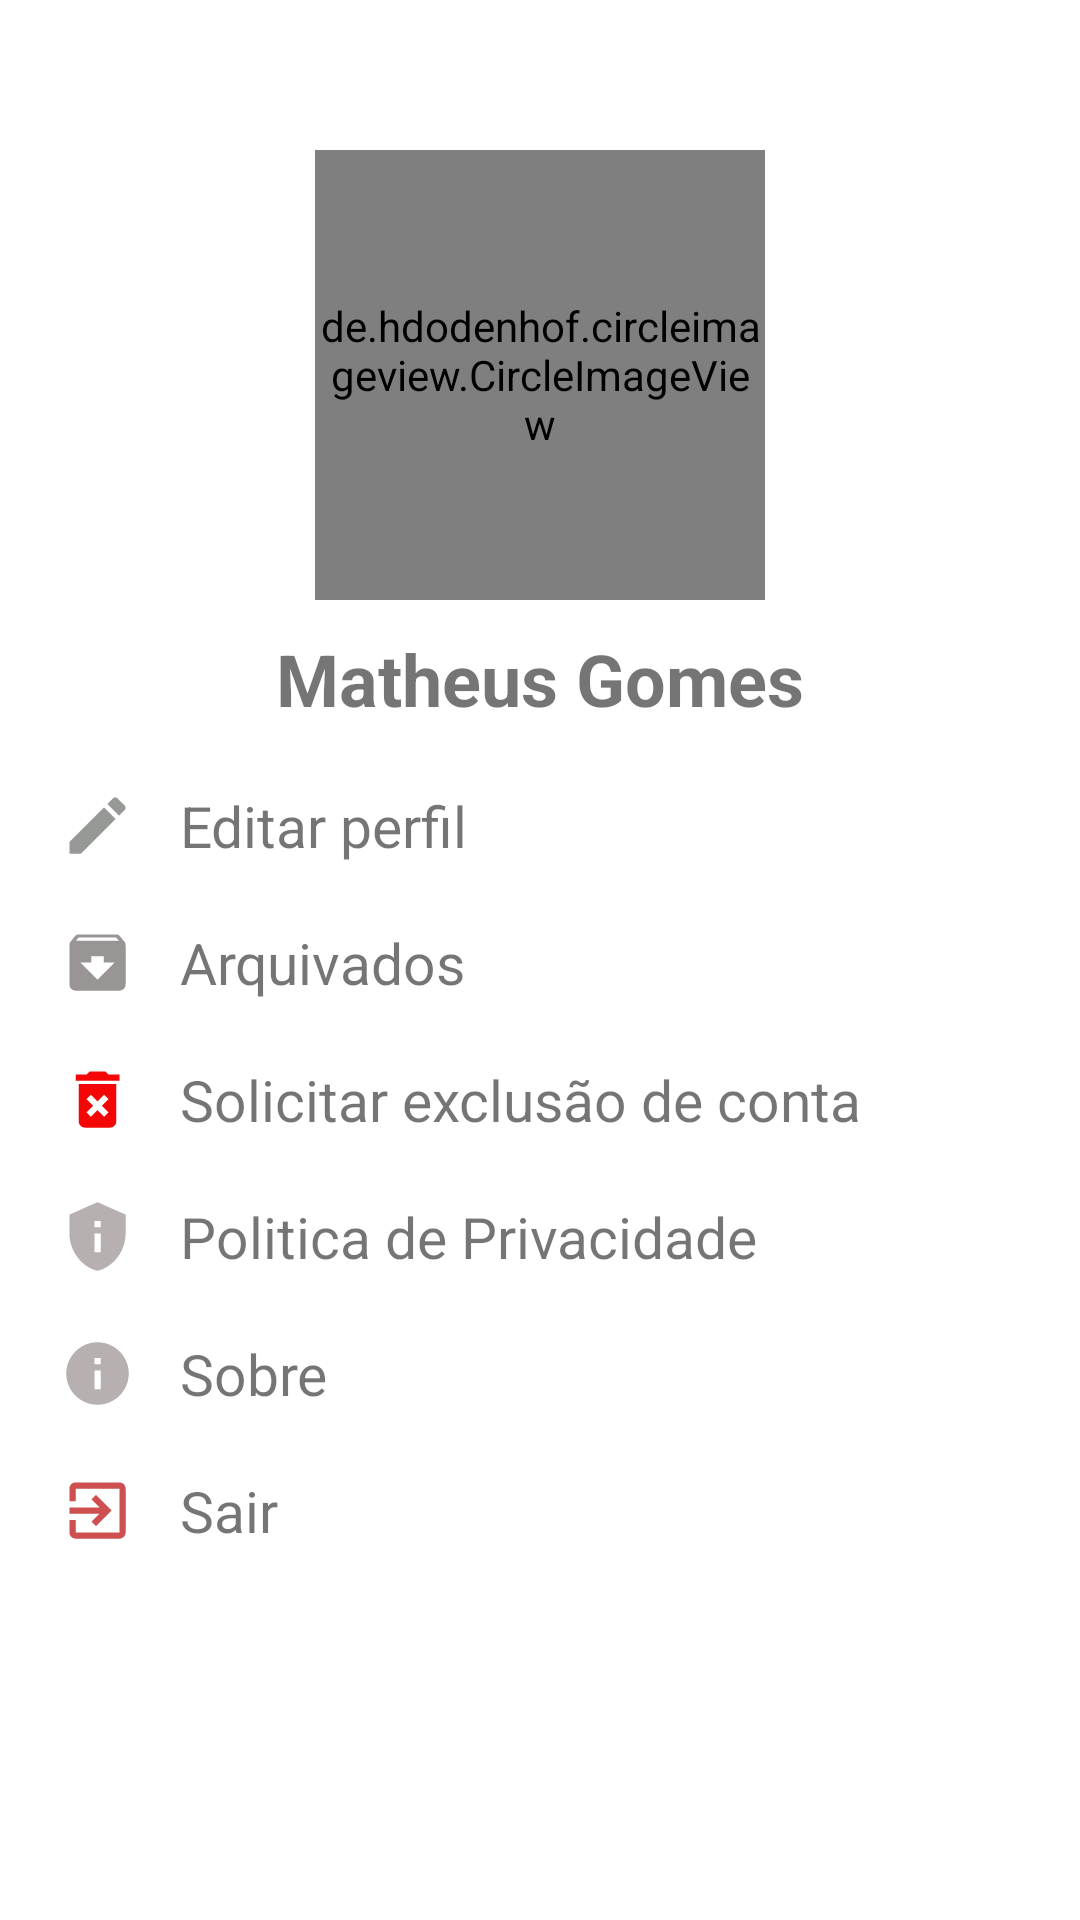

Named icons in this screenshot (1080*1920) and their centers, point (x, y):
archive: point (97, 962)
delete forever: point (97, 1099)
edit lapis: point (97, 825)
exit to app: point (97, 1510)
info: point (97, 1373)
privacy tip: point (97, 1236)
